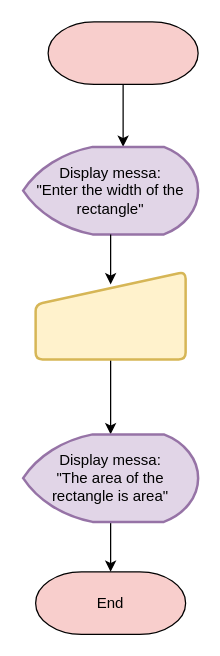
Some shapes in this 220 by 656 pixel diagram are drawn without their labels. The shapes that lost their labels are listed below. From the top down, each one's box as (x1, y1, x2, y2) in pixels, then its label:
(47, 21, 198, 84): Start
(34, 270, 186, 360): Read hight input
